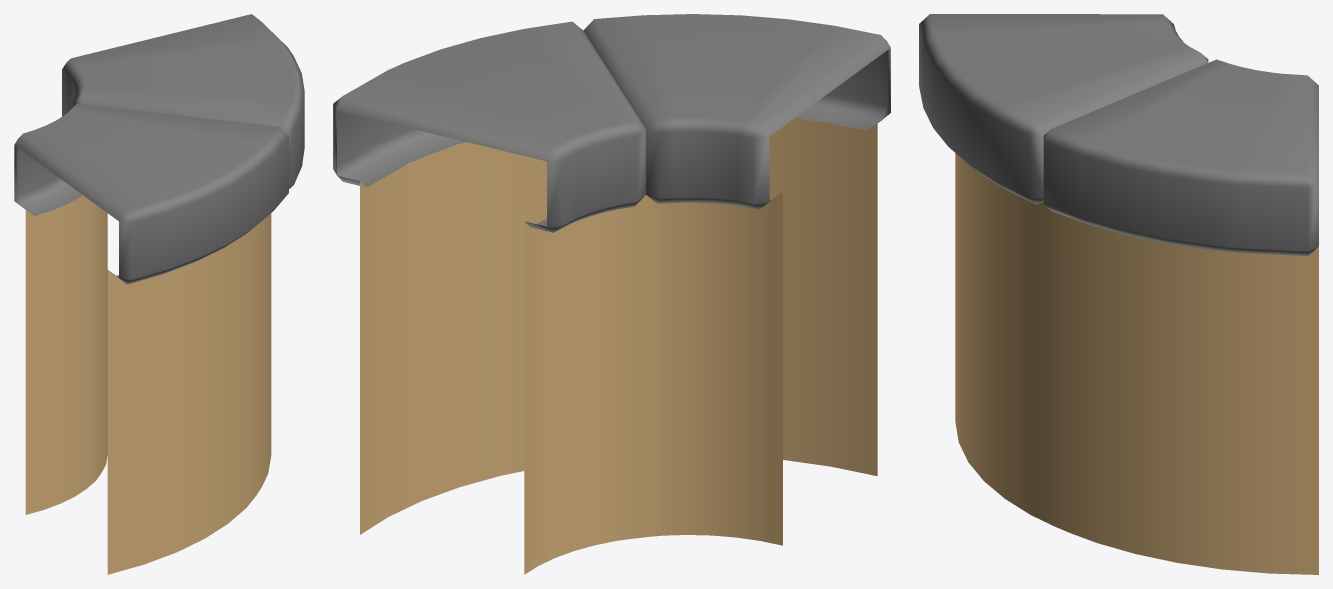
The model's file is SM_WallCurve_2_LOD0.fbx.
3 views of the same model, side by side, from view 1: azimuth 30°, elevation 25°; view 2: azimuth 150°, elevation 25°; view 3: azimuth 270°, elevation 25° (orthographic). The views are drawn at different scales.
Visible parts, largest first — view 1: SM_WallCurve_2_LOD0; view 2: SM_WallCurve_2_LOD0; view 3: SM_WallCurve_2_LOD0.
Boxes of the visible parts, <box> form: SM_WallCurve_2_LOD0: <box>14,14,304,574</box>; SM_WallCurve_2_LOD0: <box>333,14,890,574</box>; SM_WallCurve_2_LOD0: <box>919,14,1318,574</box>.
Size of the model in its own units: 2.2 by 2.5 by 2.2.
